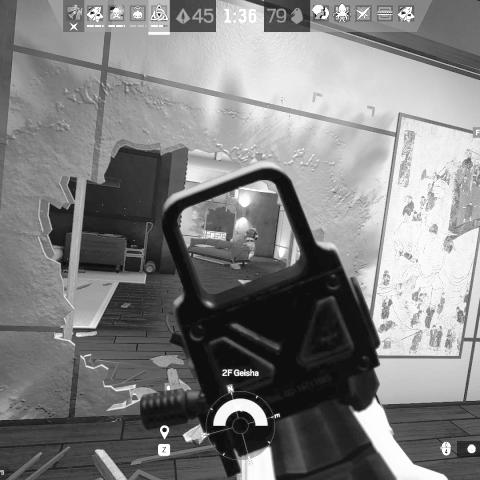Character: (241, 224, 260, 261)
Head: (251, 225, 256, 230)
